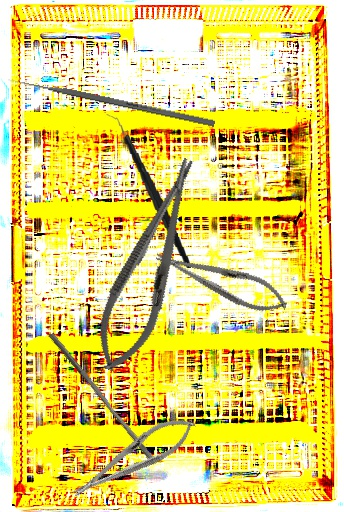Chopper: (104, 107, 193, 275)
Needle Holder: (83, 149, 216, 381), (64, 406, 203, 509), (150, 239, 293, 322)
Pusher: (43, 331, 162, 466), (7, 76, 216, 127)
